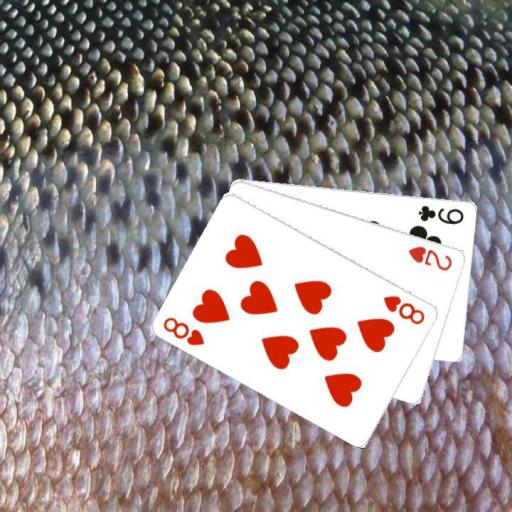2H: (406, 243, 455, 273)
8H: (381, 293, 428, 327), (160, 314, 207, 347)
9C: (415, 202, 466, 225)
